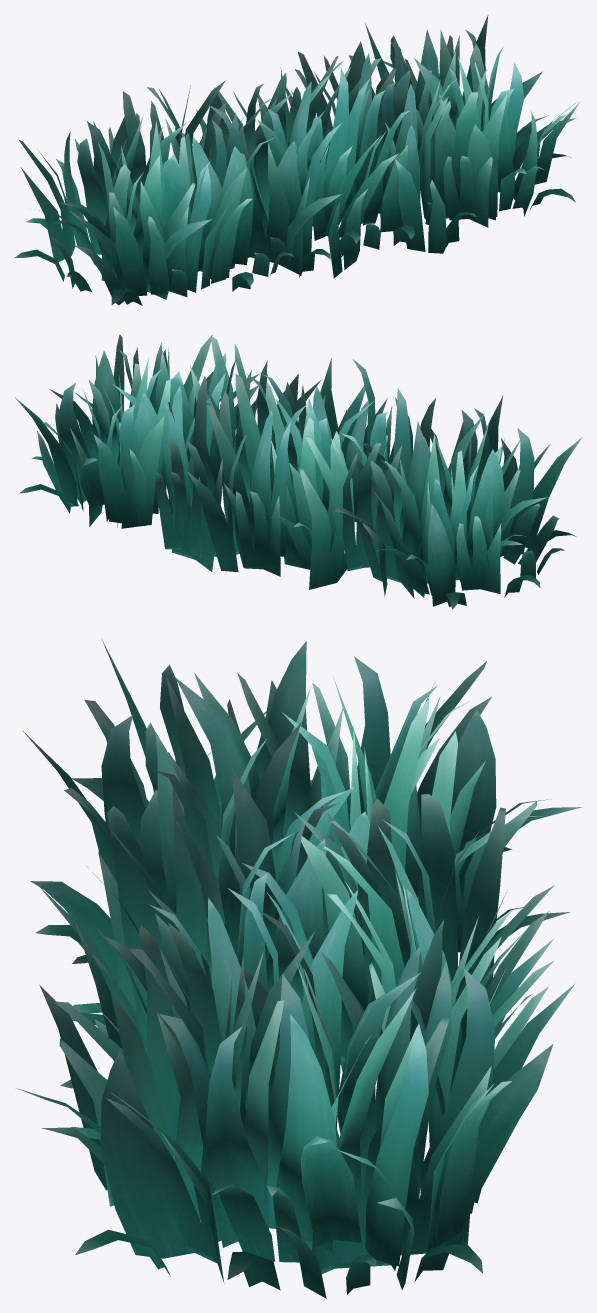
File: pref_sm_beach_winter_techgrass03_lv3.fbx
3 views of the same model, one above another, from view 1: azimuth 30°, elevation 25°; view 2: azimuth 150°, elevation 25°; view 3: azimuth 270°, elevation 25° (orthographic). The views are drawn at different scales.
Visible parts, largest first — view 1: pref_sm_beach_winter_techgrass03_lv3; view 2: pref_sm_beach_winter_techgrass03_lv3; view 3: pref_sm_beach_winter_techgrass03_lv3.
Part boxes in pixels (bbox=[...]): pref_sm_beach_winter_techgrass03_lv3: bbox=[14, 15, 580, 305]; pref_sm_beach_winter_techgrass03_lv3: bbox=[15, 334, 582, 609]; pref_sm_beach_winter_techgrass03_lv3: bbox=[16, 638, 582, 1298].
Bounding box in the file's own units: 5.97 × 1.99 × 2.97.
